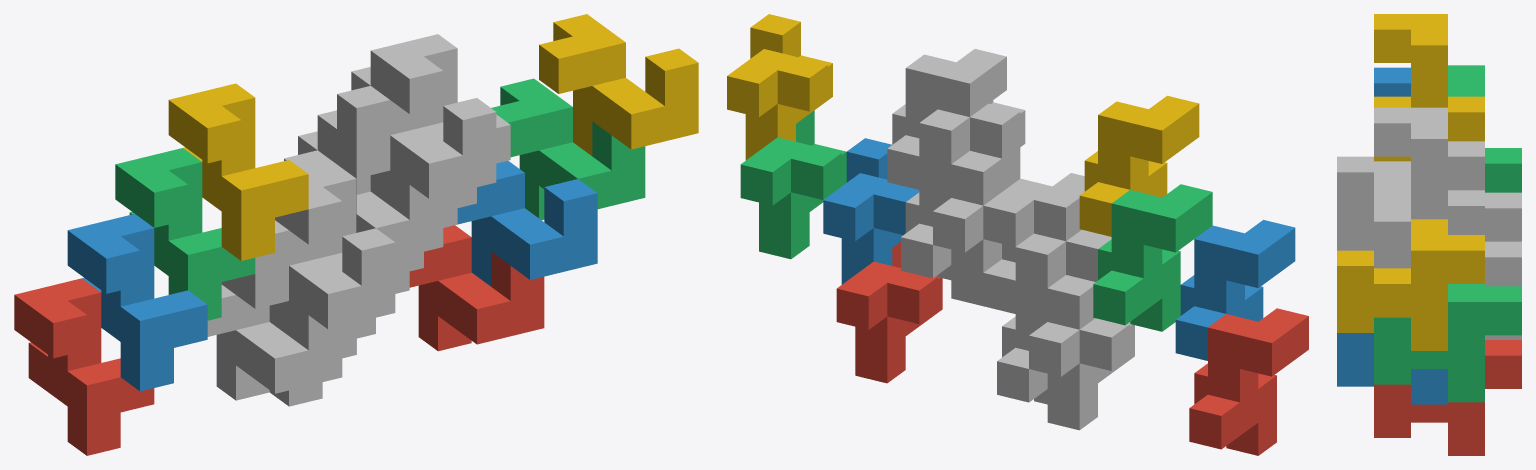
Rendered from tiling.obj.
The picture shows the model from 3 angles, left to right: view 1: azimuth 30°, elevation 25°; view 2: azimuth 150°, elevation 25°; view 3: azimuth 270°, elevation 25°; orthographic projection. The views are drawn at different scales.
Parts seen in each view (by area): view 1: copy_2_domain_8, copy_1_domain_2, copy_1_domain_4, copy_1_domain_1, copy_2_domain_4, copy_2_domain_6, copy_1_domain_3, copy_2_domain_7, copy_2_domain_5, copy_2_domain_1, copy_2_domain_2, copy_1_domain_8 (+4 smaller); view 2: copy_1_domain_3, copy_1_domain_1, copy_1_domain_4, copy_1_domain_2, copy_2_domain_8, copy_2_domain_7, copy_2_domain_5, copy_2_domain_6, copy_1_domain_8, copy_2_domain_1, copy_1_domain_7, copy_2_domain_3 (+4 smaller); view 3: copy_2_domain_8, copy_1_domain_8, copy_2_domain_7, copy_1_domain_4, copy_2_domain_5, copy_2_domain_4, copy_2_domain_6, copy_1_domain_3, copy_2_domain_3, copy_1_domain_7, copy_1_domain_2, copy_1_domain_6 (+1 smaller).
Part boxes in pixels (x1,y1,x2,y2): copy_2_domain_8: (539, 14, 698, 155); copy_1_domain_2: (67, 214, 207, 391); copy_1_domain_4: (168, 83, 308, 260); copy_1_domain_1: (14, 278, 154, 455); copy_2_domain_4: (337, 67, 496, 205); copy_2_domain_6: (457, 161, 597, 286); copy_1_domain_3: (115, 148, 255, 320); copy_2_domain_7: (491, 78, 645, 220); copy_2_domain_5: (409, 225, 544, 351); copy_2_domain_1: (207, 285, 342, 400); copy_2_domain_2: (255, 220, 395, 335); copy_1_domain_8: (370, 34, 510, 211); copy_1_domain_3: (1093, 184, 1212, 331); copy_1_domain_1: (1189, 308, 1308, 455); copy_1_domain_4: (1079, 95, 1199, 236); copy_1_domain_2: (1175, 220, 1295, 360); copy_2_domain_8: (727, 14, 832, 160); copy_2_domain_7: (740, 110, 846, 259); copy_2_domain_5: (836, 242, 942, 383); copy_2_domain_6: (823, 138, 919, 284); copy_1_domain_8: (887, 49, 1006, 189); copy_2_domain_1: (1029, 318, 1134, 430); copy_1_domain_7: (901, 145, 1020, 280); copy_2_domain_3: (933, 192, 1033, 305); copy_2_domain_8: (1337, 219, 1484, 350); copy_1_domain_8: (1374, 107, 1484, 268); copy_2_domain_7: (1374, 284, 1521, 402); copy_1_domain_4: (1374, 14, 1484, 161); copy_2_domain_5: (1374, 340, 1521, 455); copy_2_domain_4: (1337, 141, 1484, 239); copy_2_domain_6: (1337, 333, 1447, 404); copy_1_domain_3: (1448, 65, 1521, 192); copy_2_domain_3: (1485, 192, 1521, 241); copy_1_domain_7: (1485, 241, 1521, 286); copy_1_domain_2: (1374, 67, 1410, 96); copy_1_domain_6: (1374, 161, 1410, 174).
Bounding box in the file's own units: 18 × 9 × 5.
